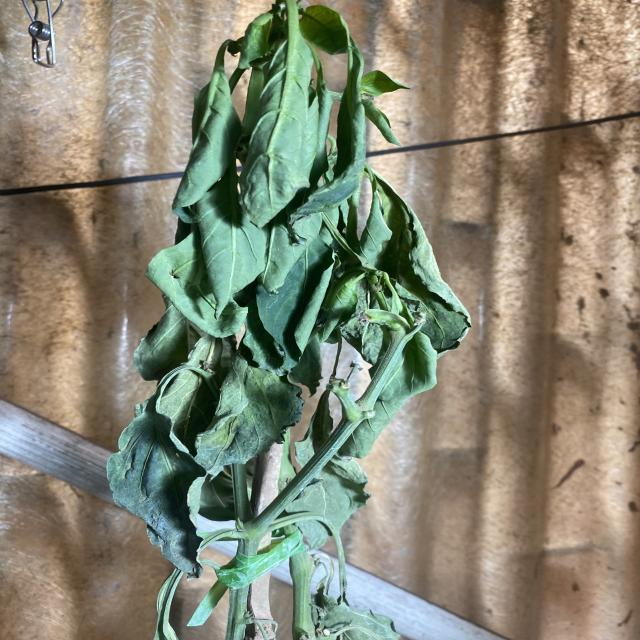Leaf: (107, 394, 208, 582), (240, 31, 315, 228)
